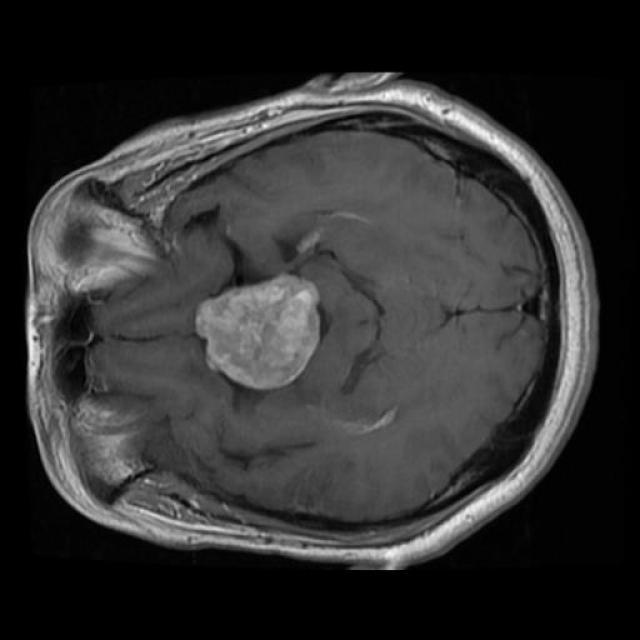Pituitary: (196, 274, 319, 390)
